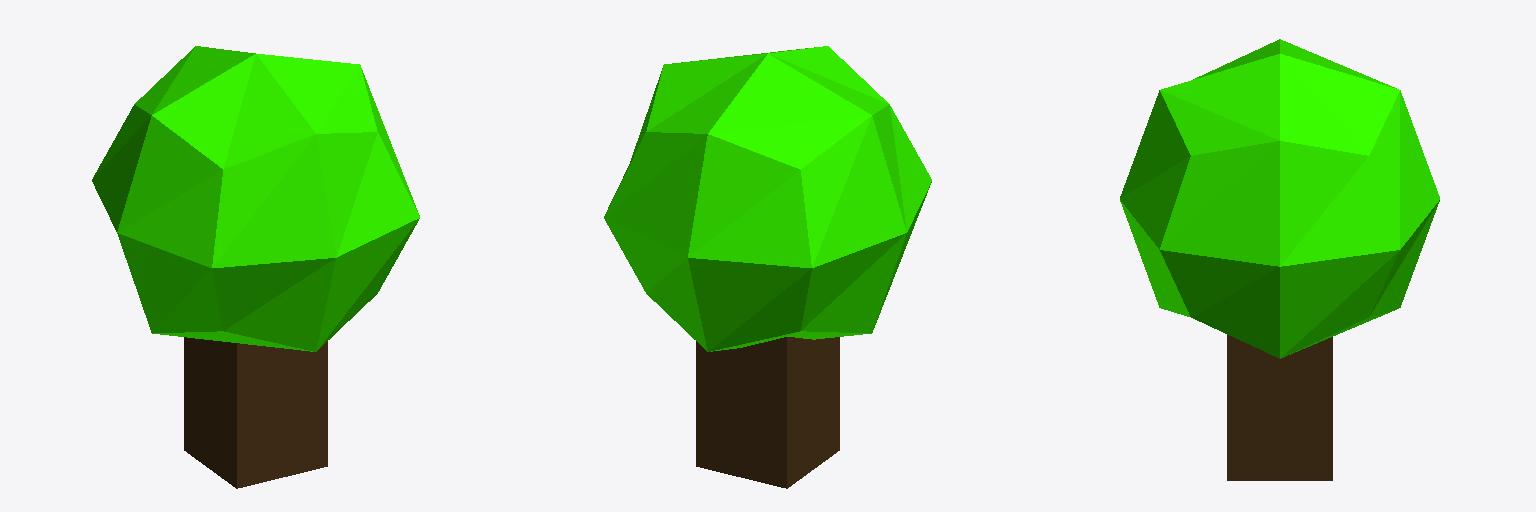
Rendered from TreeV5.obj.
The picture shows the model from 3 angles: view 1: azimuth 30°, elevation 25°; view 2: azimuth 150°, elevation 25°; view 3: azimuth 270°, elevation 25°; orthographic projection.
Visible parts, largest first — view 1: pCube5; view 2: pCube5; view 3: pCube5.
Part boxes in pixels (x1,y1,x2,y2): pCube5: (92,46,419,488); pCube5: (604,46,931,488); pCube5: (1120,39,1439,480).
Size of the model in its own units: 3.04 by 4.23 by 3.04.